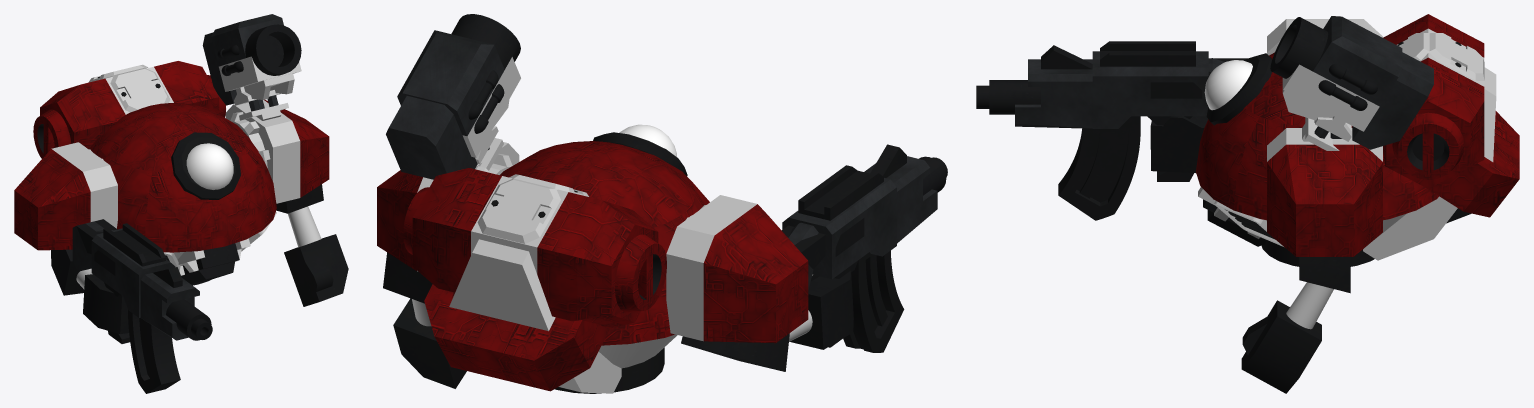
The model's file is Trooper.dae.
3 views of the same model, side by side, from view 1: azimuth 30°, elevation 25°; view 2: azimuth 150°, elevation 25°; view 3: azimuth 270°, elevation 25° (orthographic). The views are drawn at different scales.
Parts seen in each view (by area): view 1: mergedBlocks; view 2: mergedBlocks; view 3: mergedBlocks.
Part boxes in pixels (x1=…): mergedBlocks: x1=14, y1=14, x2=348, y2=393; mergedBlocks: x1=377, y1=14, x2=947, y2=393; mergedBlocks: x1=976, y1=14, x2=1519, y2=393.
Size of the model in its own units: 1.63 by 1.49 by 2.1.
6 materials, 3 textured.
